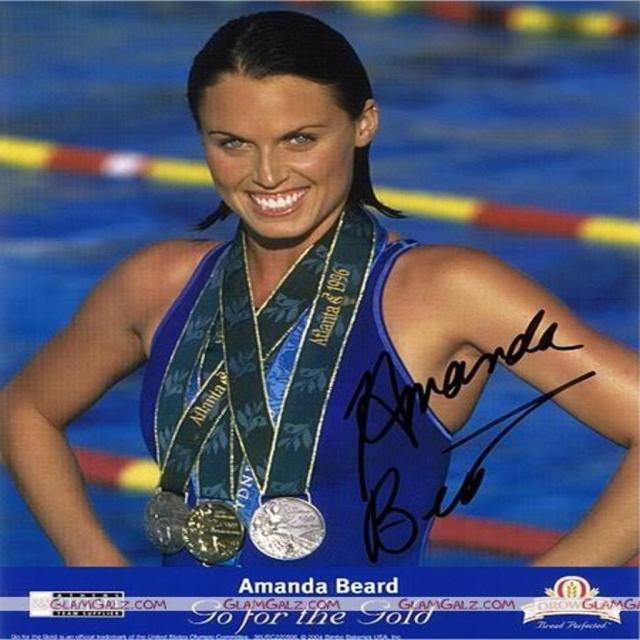Face: (192, 61, 374, 244)
